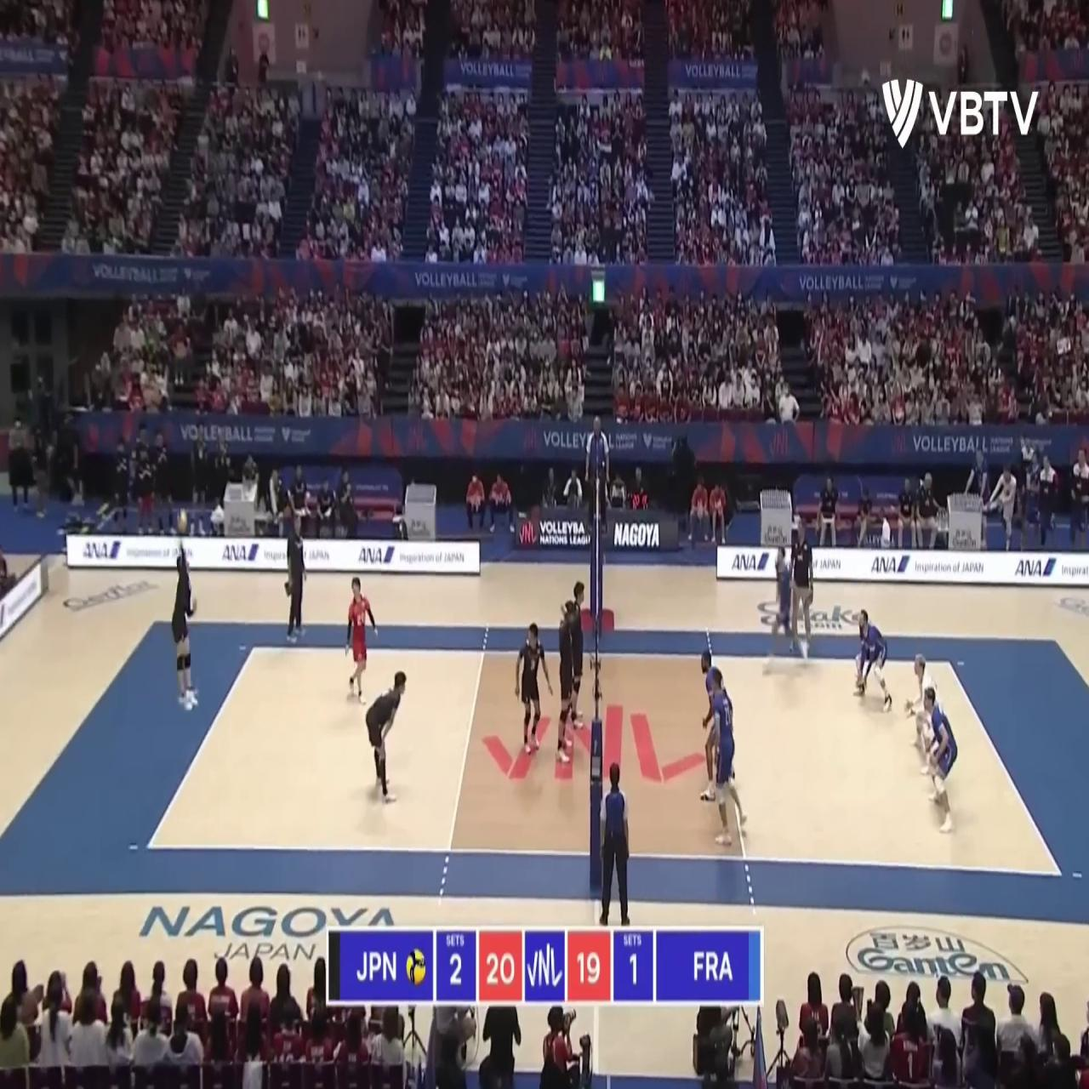ball: (176, 508, 189, 533)
